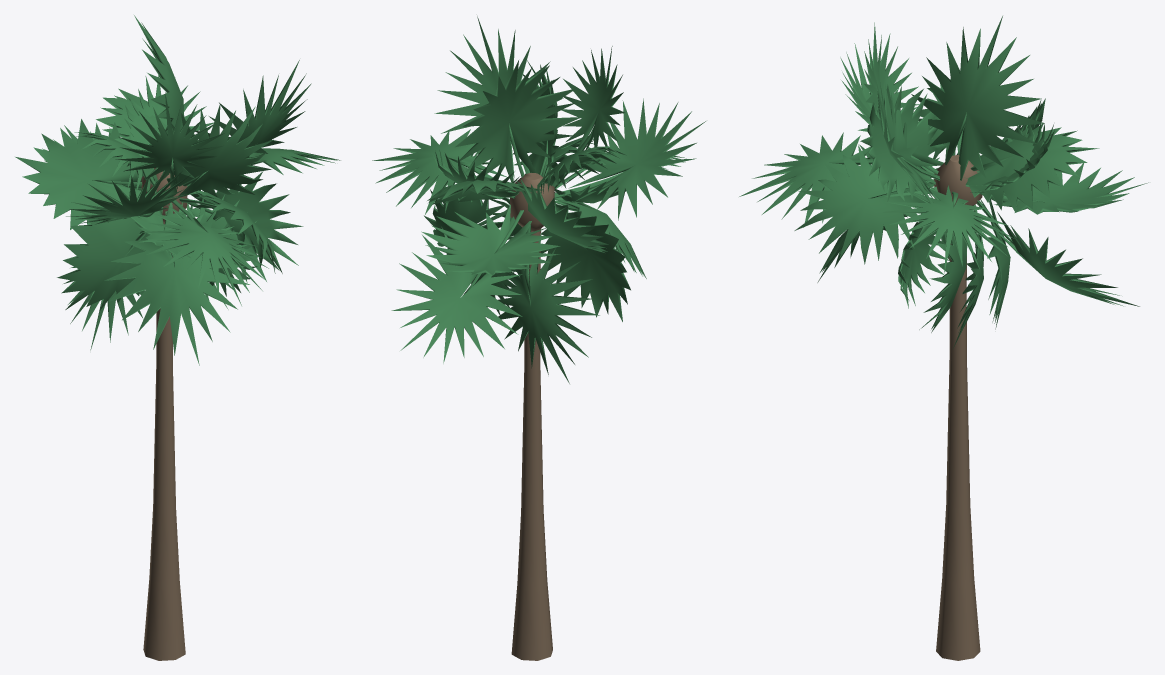
File: spikepalm_big.fbx
3 renders of one model, left to right at view 1: azimuth 30°, elevation 25°; view 2: azimuth 150°, elevation 25°; view 3: azimuth 270°, elevation 25°, orthographic. The views are drawn at different scales.
Visible parts, largest first — view 1: spikepalm_big; view 2: spikepalm_big; view 3: spikepalm_big.
Part boxes in pixels (bbox=[...]): spikepalm_big: bbox=[15, 15, 340, 660]; spikepalm_big: bbox=[372, 16, 705, 660]; spikepalm_big: bbox=[739, 16, 1148, 660].
Size of the model in its own units: 0.3765 by 0.741 by 0.4391.
